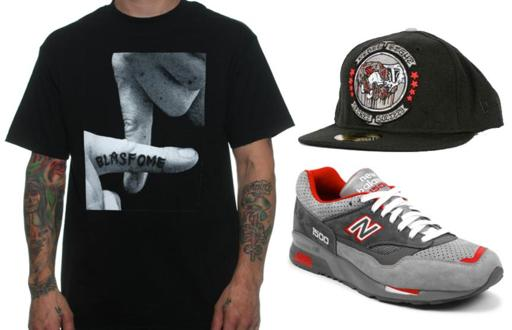T-shirt: (4, 1, 300, 330)
